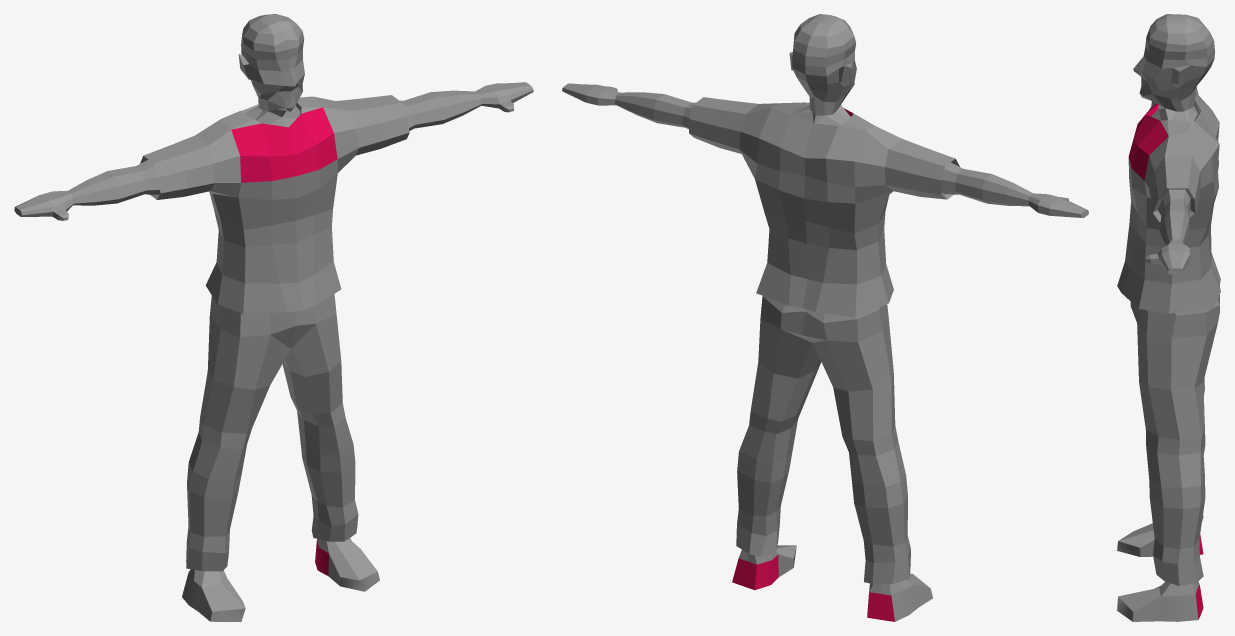
File: HumanNPC.FBX
3 renders of one model, left to right at view 1: azimuth 30°, elevation 25°; view 2: azimuth 150°, elevation 25°; view 3: azimuth 270°, elevation 25°, orthographic. The views are drawn at different scales.
Parts seen in each view (by area): view 1: Box001; view 2: Box001; view 3: Box001.
Part boxes in pixels (x1=…): Box001: x1=14, y1=14, x2=533, y2=621; Box001: x1=562, y1=14, x2=1088, y2=621; Box001: x1=1117, y1=14, x2=1220, y2=621.
Bounding box in the file's own units: 65.82 × 69.62 × 11.62.
